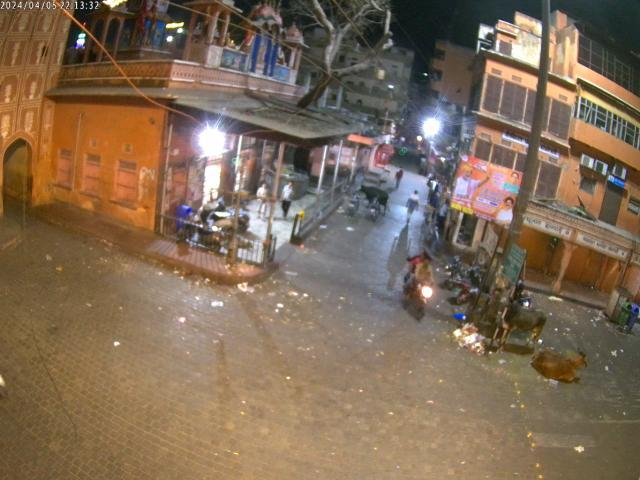cattle: (497, 296, 546, 346), (530, 345, 588, 383), (358, 184, 388, 214)
helmet: (422, 254, 432, 270)
motorbike-rider: (405, 250, 435, 322)
scooty: (450, 264, 482, 304), (442, 252, 467, 282)
